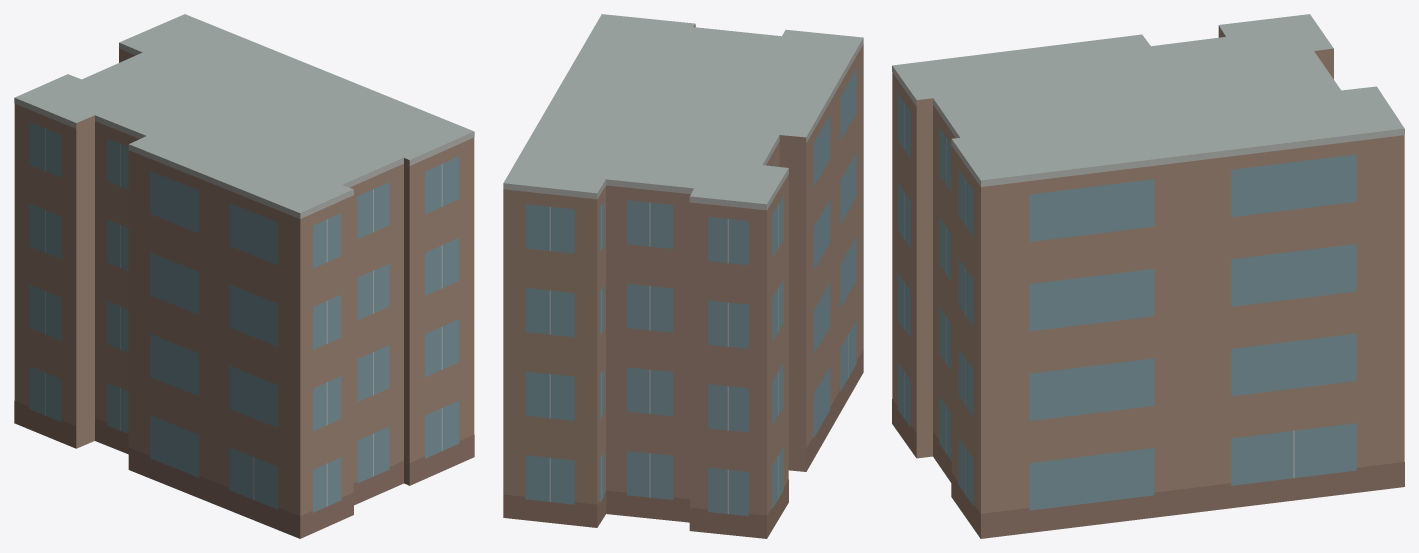
The model's file is survey-upis-32919387.glb.
3 views of the same model, side by side, from view 1: azimuth 30°, elevation 25°; view 2: azimuth 150°, elevation 25°; view 3: azimuth 270°, elevation 25° (orthographic). The views are drawn at different scales.
Parts seen in each view (by area): view 1: survey-upis-32919387.tmp; view 2: survey-upis-32919387.tmp; view 3: survey-upis-32919387.tmp.
Part boxes in pixels (x1,y1,x2,y2): survey-upis-32919387.tmp: [14, 14, 474, 538]; survey-upis-32919387.tmp: [503, 14, 863, 538]; survey-upis-32919387.tmp: [892, 14, 1404, 538].
Size of the model in its own units: 13.47 by 13.5 by 17.52.
